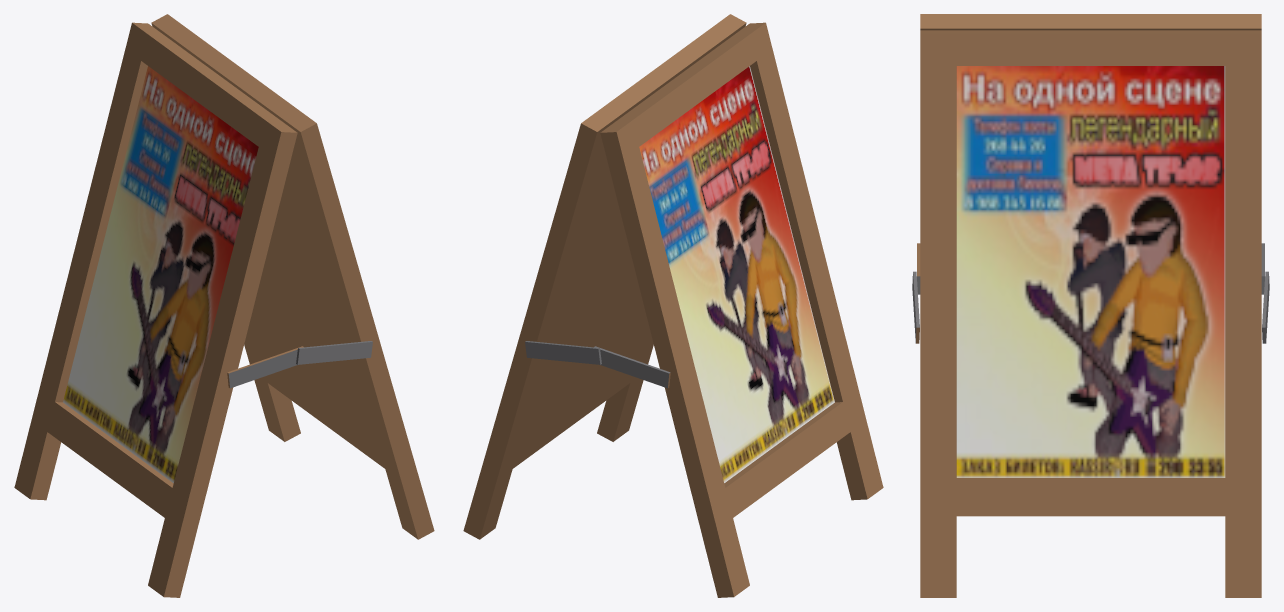
File: SidewalkSign.fbx
3 renders of one model, left to right at view 1: azimuth 30°, elevation 25°; view 2: azimuth 150°, elevation 25°; view 3: azimuth 270°, elevation 25°, orthographic. The views are drawn at different scales.
Visible parts, largest first — view 1: SidewalkSign; view 2: SidewalkSign; view 3: SidewalkSign.
Part boxes in pixels (bbox=[...]): SidewalkSign: bbox=[14, 14, 434, 597]; SidewalkSign: bbox=[463, 14, 883, 597]; SidewalkSign: bbox=[912, 14, 1269, 597].
Size of the model in its own units: 73.46 by 114 by 73.48.
